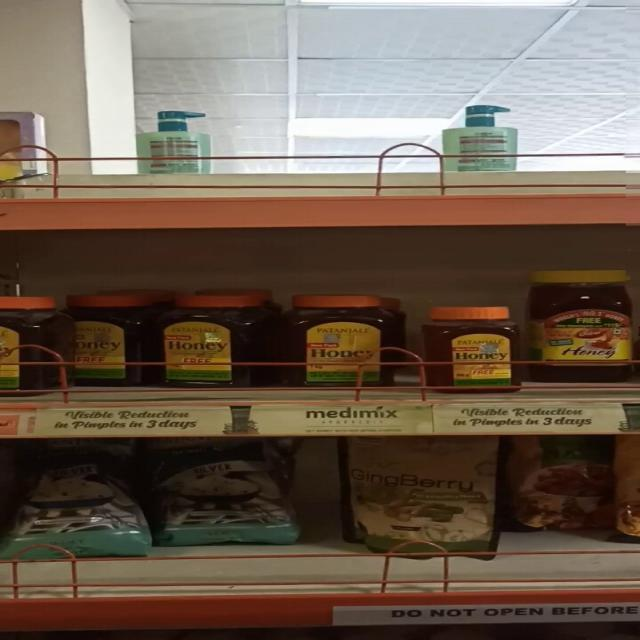Dabur Honey: (525, 270, 640, 384)
Patanjali Honey: (289, 290, 395, 390), (164, 292, 267, 387), (418, 305, 520, 393)
